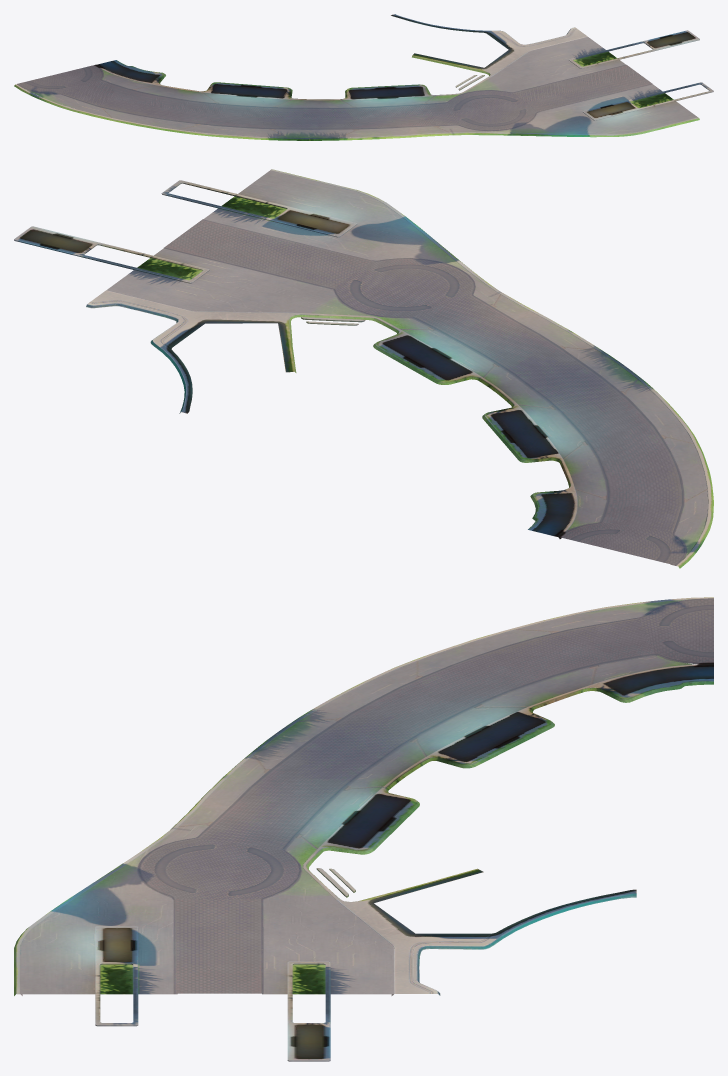
Rendered from pref_sm_beach_techsmall_001_bk_main_road04_lv2.fbx.
3 views of the same model, one above another, from view 1: azimuth 30°, elevation 25°; view 2: azimuth 150°, elevation 25°; view 3: azimuth 270°, elevation 25° (orthographic). The views are drawn at different scales.
Visible parts, largest first — view 1: pref_sm_beach_techsmall_001_bk_main_road04_lv2; view 2: pref_sm_beach_techsmall_001_bk_main_road04_lv2; view 3: pref_sm_beach_techsmall_001_bk_main_road04_lv2.
Boxes of the visible parts, bbox=[...] form: pref_sm_beach_techsmall_001_bk_main_road04_lv2: bbox=[14, 14, 713, 140]; pref_sm_beach_techsmall_001_bk_main_road04_lv2: bbox=[14, 169, 713, 568]; pref_sm_beach_techsmall_001_bk_main_road04_lv2: bbox=[14, 597, 713, 1061].
Size of the model in its own units: 55.5 by 0.2236 by 35.31.
